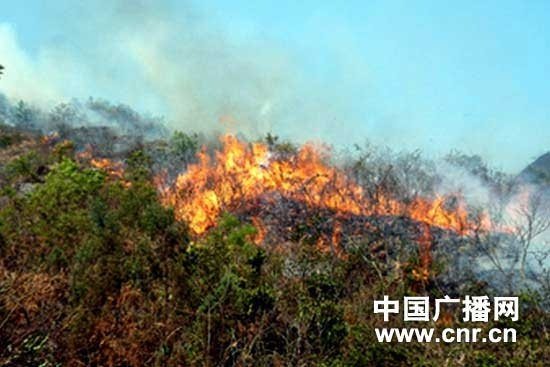fire: (136, 125, 525, 261), (41, 125, 134, 186)
